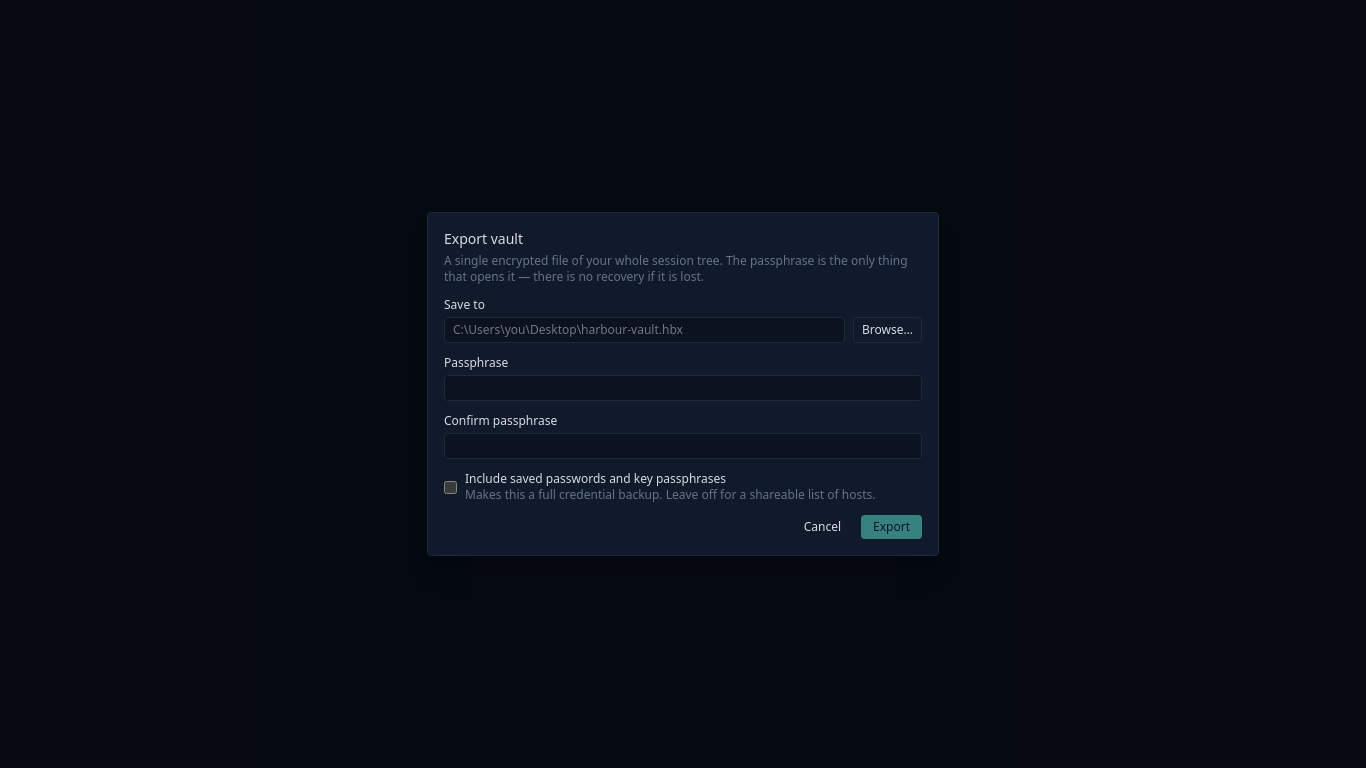
exporting a vault › surfaces a failure rather than claiming success
Step 1. Type "vault.hbx" into the field labelled "Save to" → (644, 330), box 444,317 -> 845,343
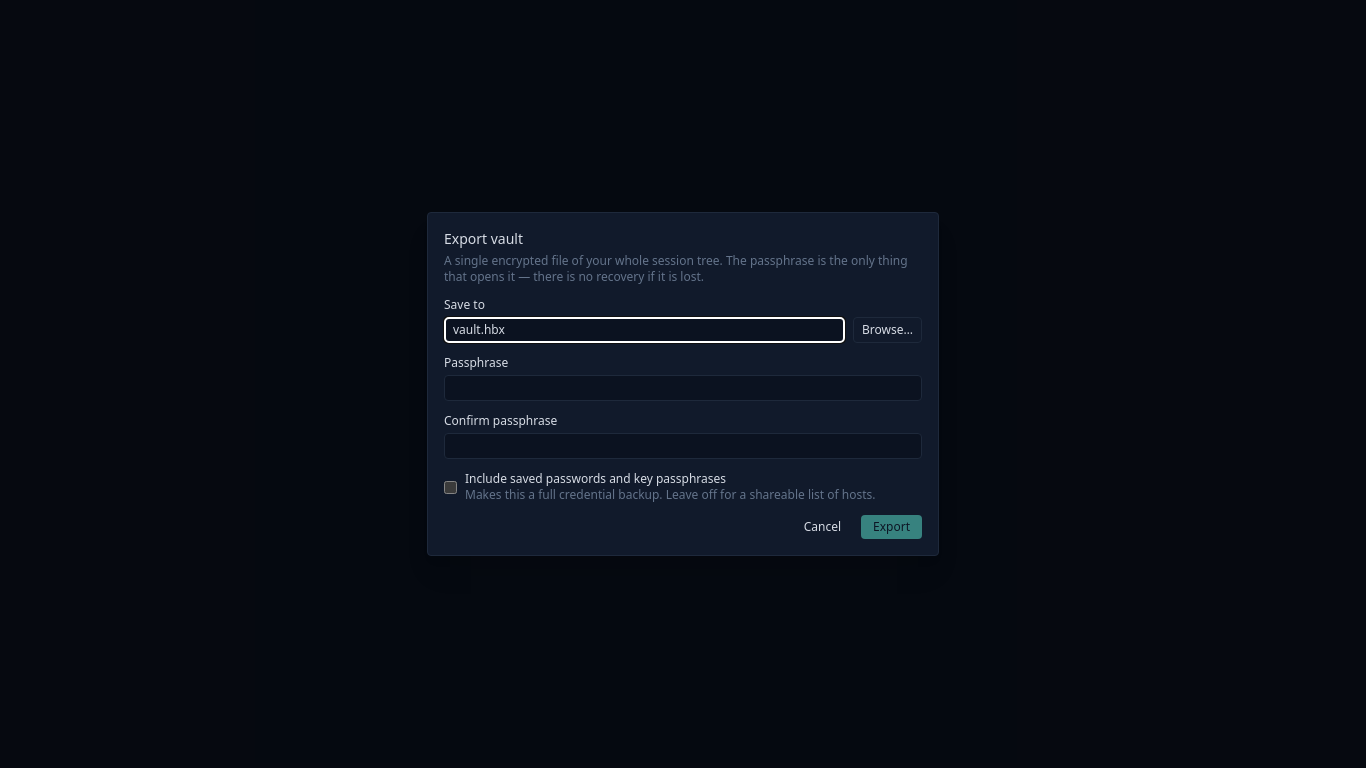
Step 2. Type "pw" into the password field labelled "Passphrase" → (683, 388), box 444,375 -> 922,401
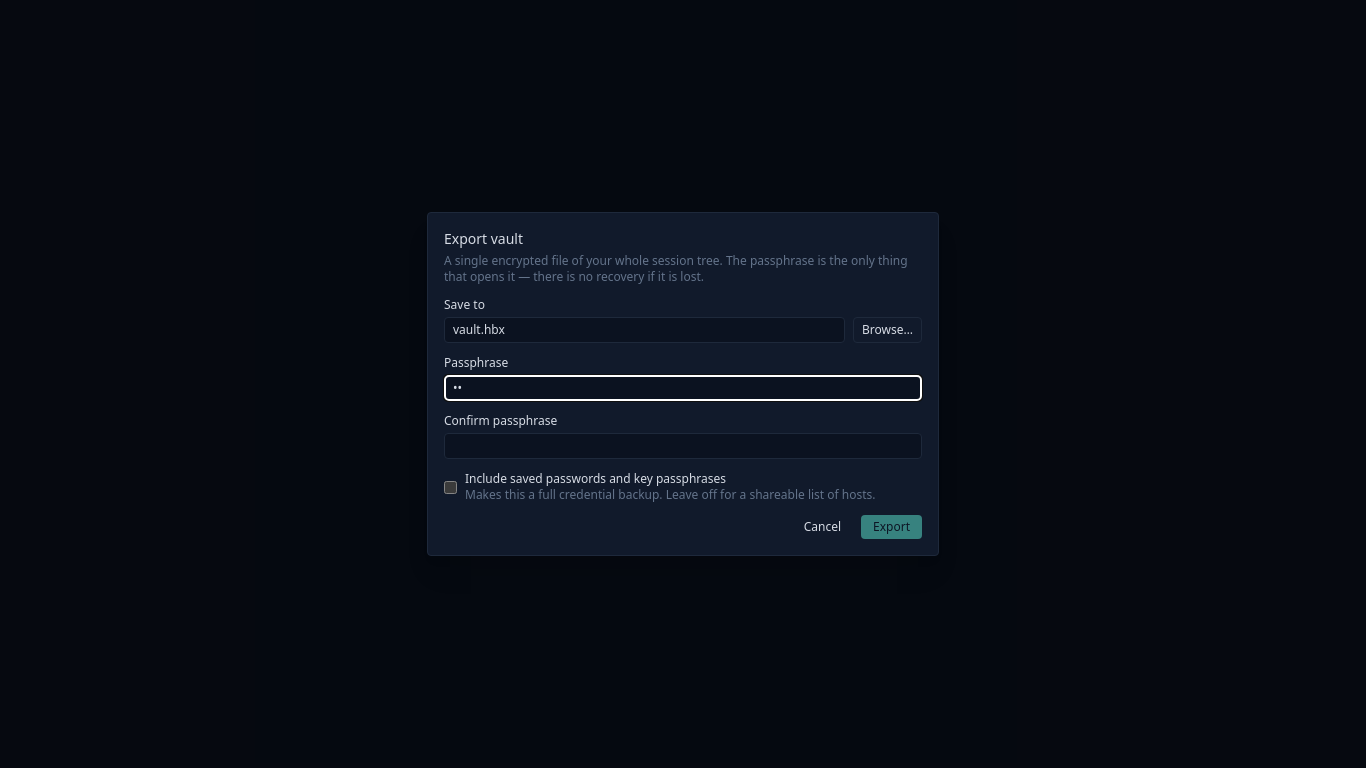
Step 3. Type "pw" into the password field labelled "Confirm passphrase" → (683, 446), box 444,433 -> 922,459
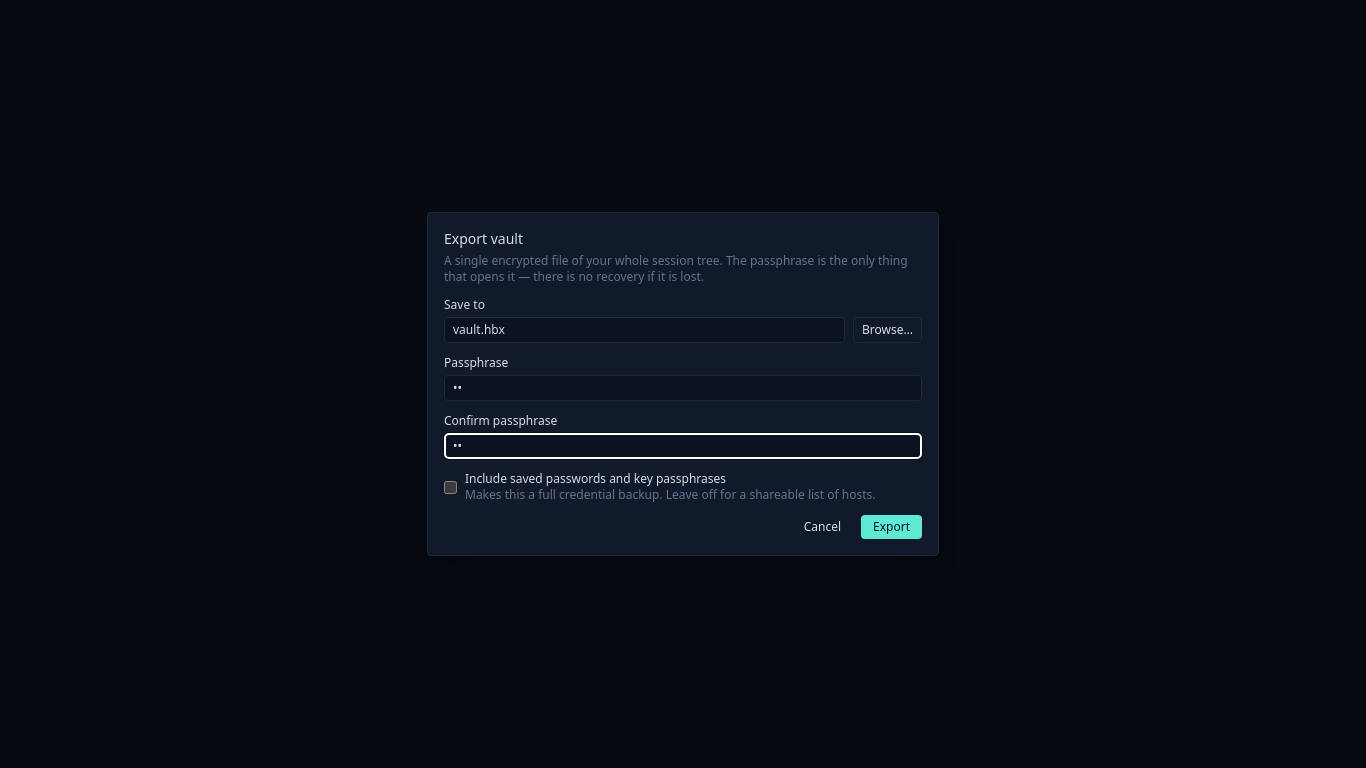
Step 4. Click the button "Export" → (892, 527), box 861,515 -> 922,539
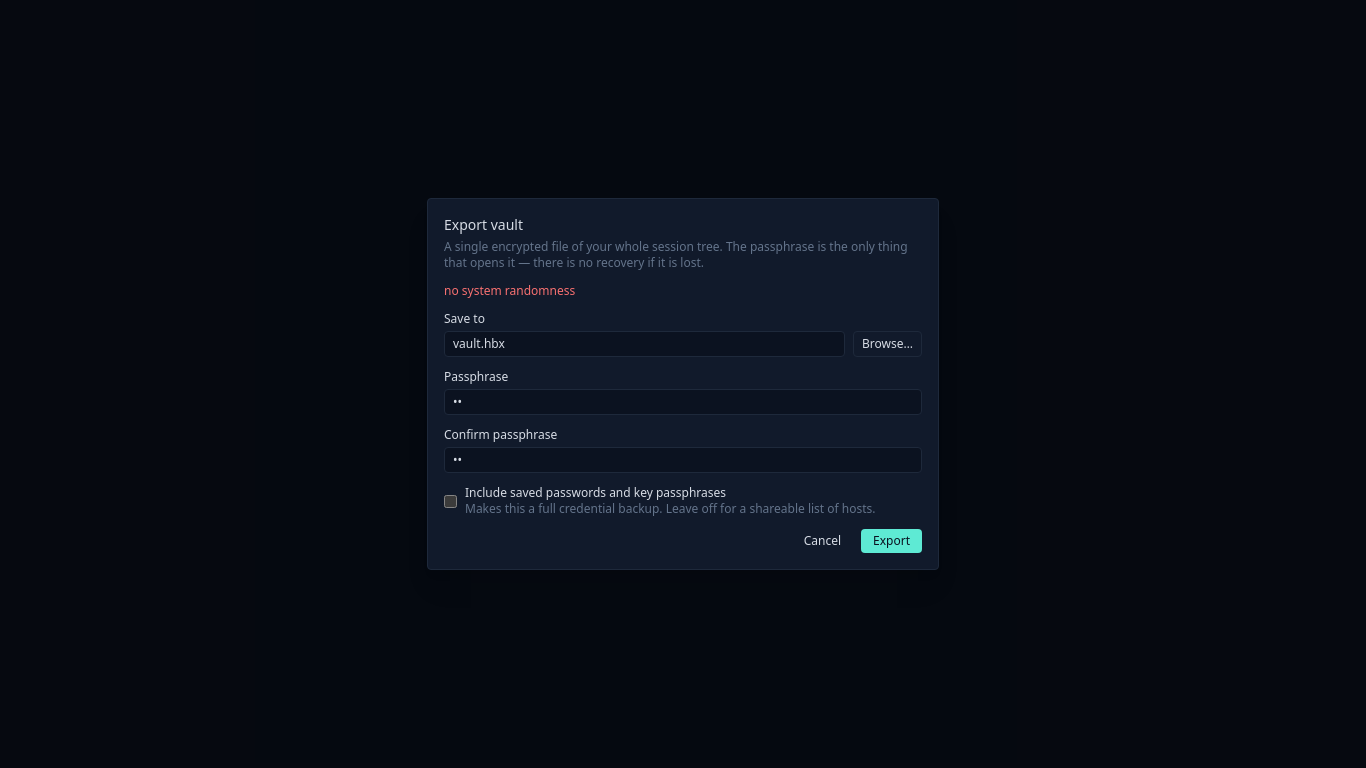
Check: the message reads "no system randomness", box 444,282 -> 575,299
